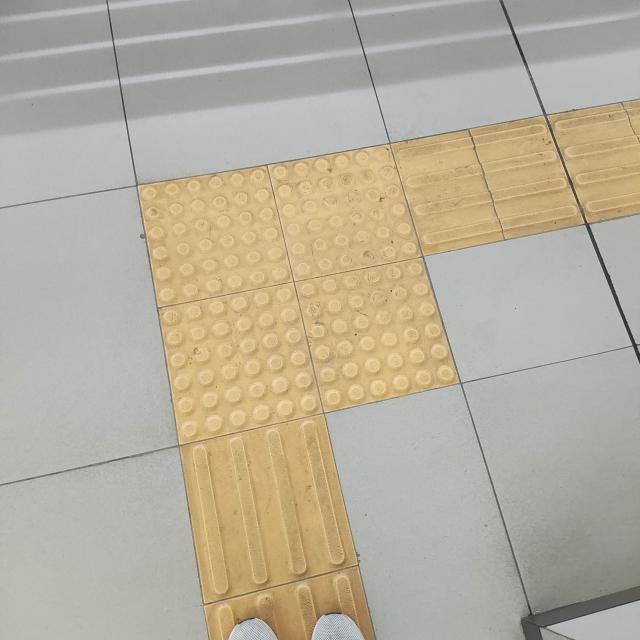kanan: (76, 111, 604, 476)
